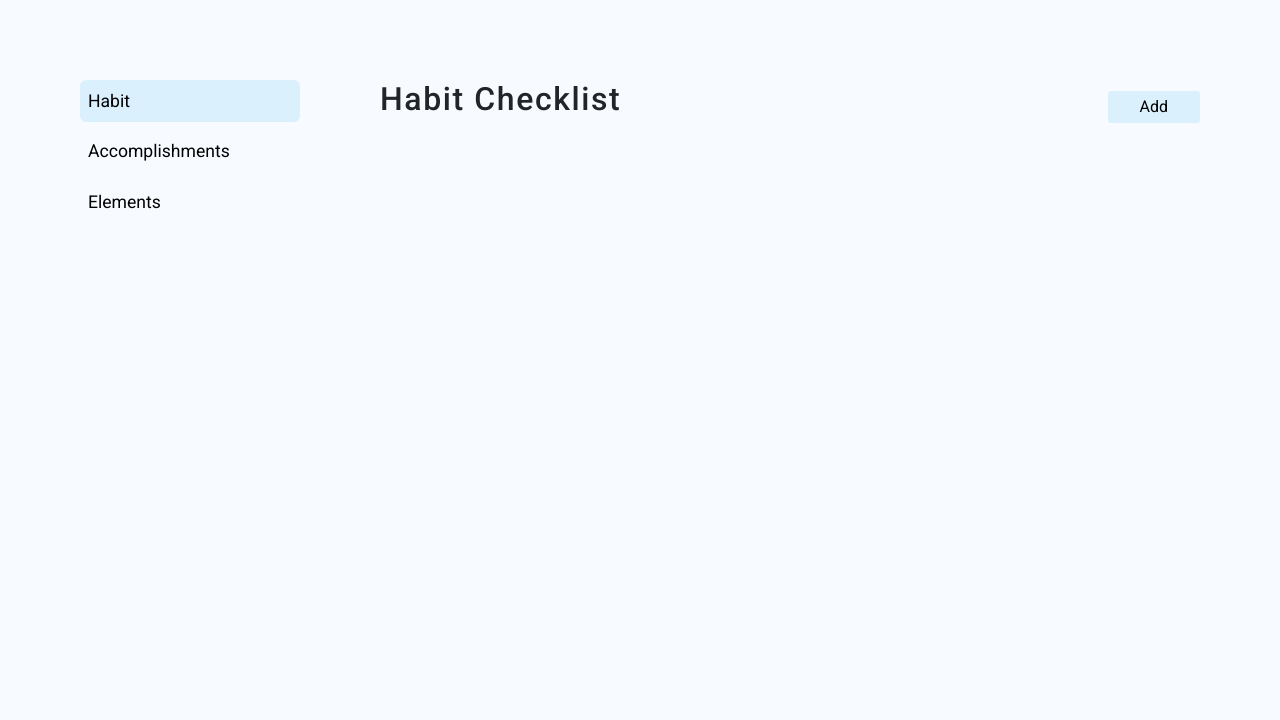
Test: habit dashboard › should display modal when add button is clicked
This screenshot has width=1280, height=720.
get "add" button and click on it
Step 1. Click the button with id "habit-add-btn" → (1155,107), box [1108,91,1201,123]
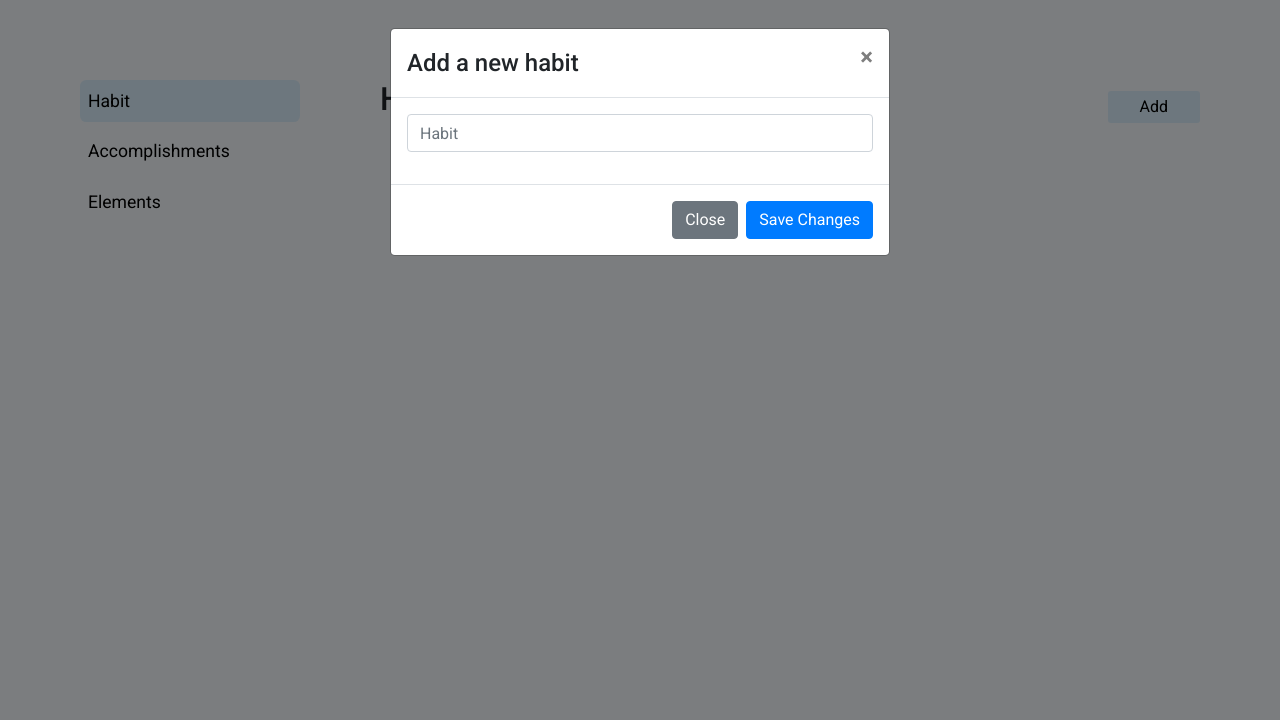
Now the text "Add a new habit" is shown, box [407,45,579,81]
